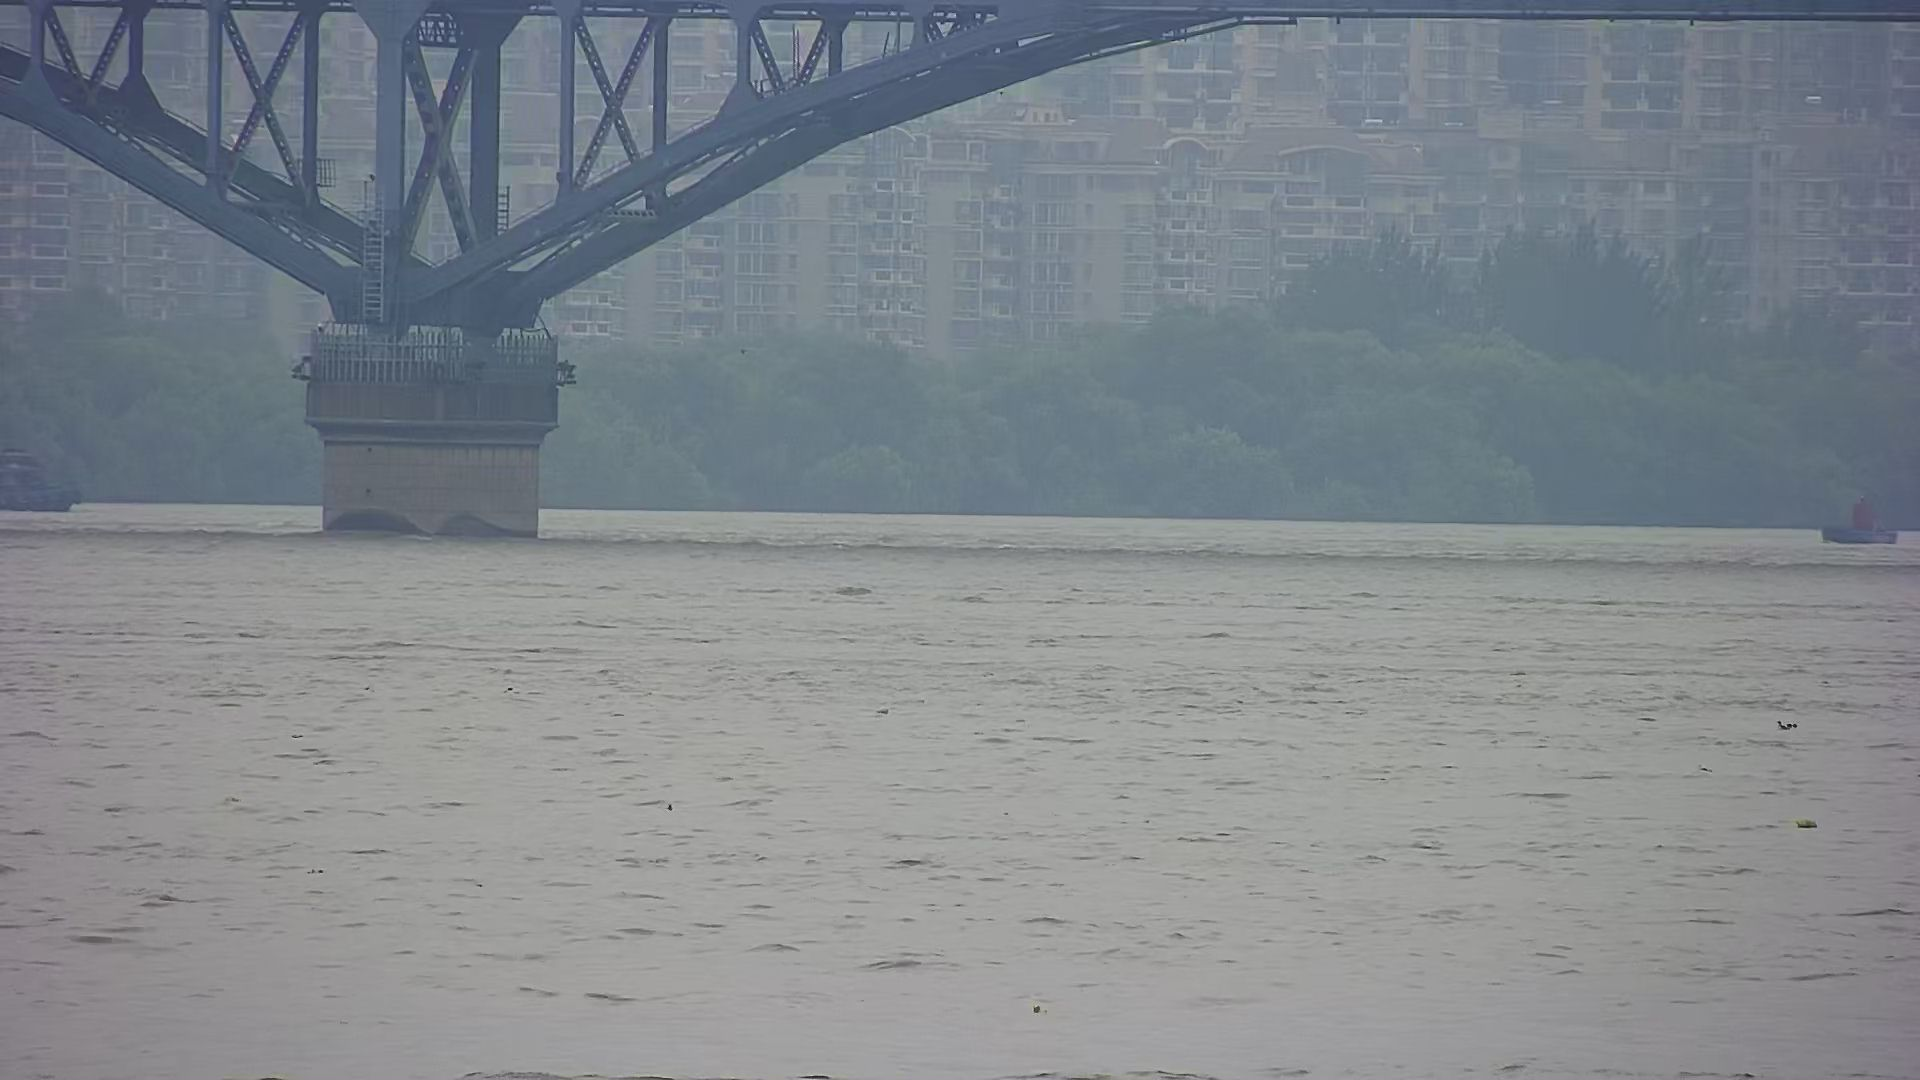boat: (1800, 483, 1920, 564)
bridge: (1, 1, 1320, 547)
